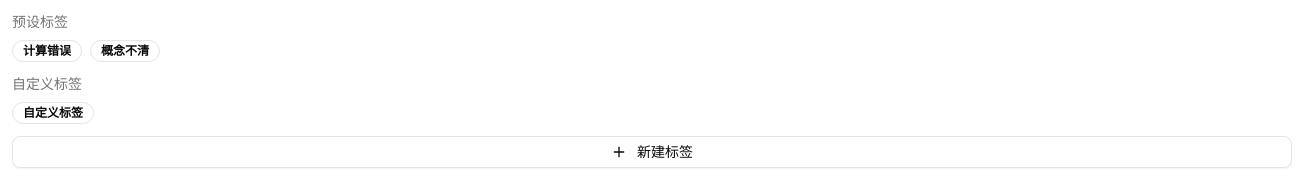
Scenario: TagSelector › shows input when create button is clicked
Click the button "新建标签".
click(652, 152)  # box 12,136 -> 1292,168
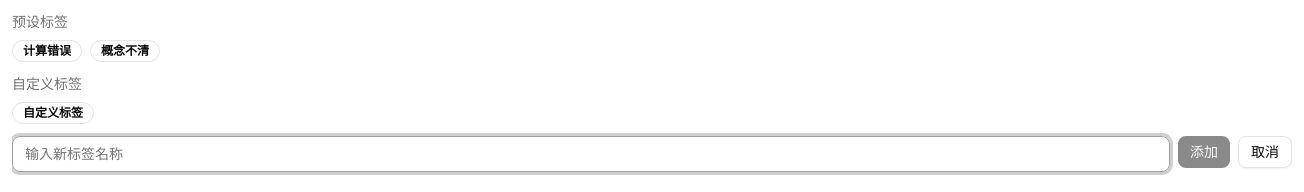
Now the field with placeholder "输入新标签名称" is shown, box 12,136 -> 1170,172
Now the button "添加" is shown, box 1178,136 -> 1230,168
Now the button "取消" is shown, box 1238,136 -> 1292,168
